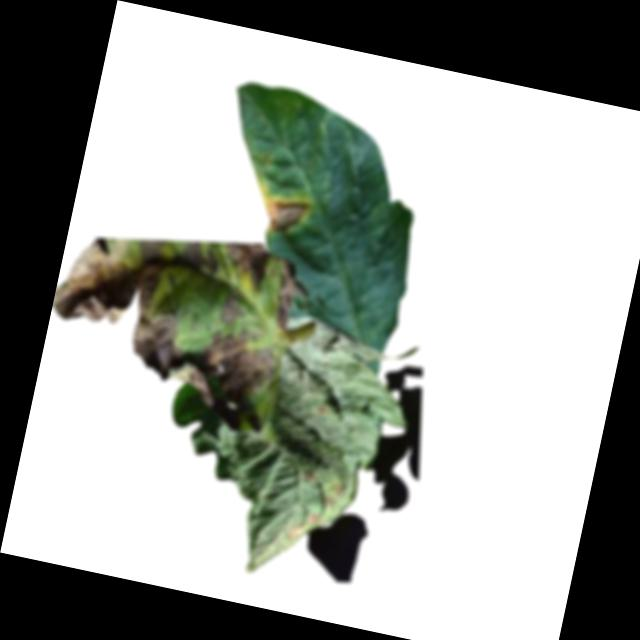Early_blight: (37, 223, 291, 421), (215, 230, 274, 294), (266, 258, 301, 337), (168, 235, 224, 281), (258, 193, 310, 241), (298, 470, 316, 487), (306, 512, 321, 526), (331, 484, 345, 498), (323, 497, 337, 508)
